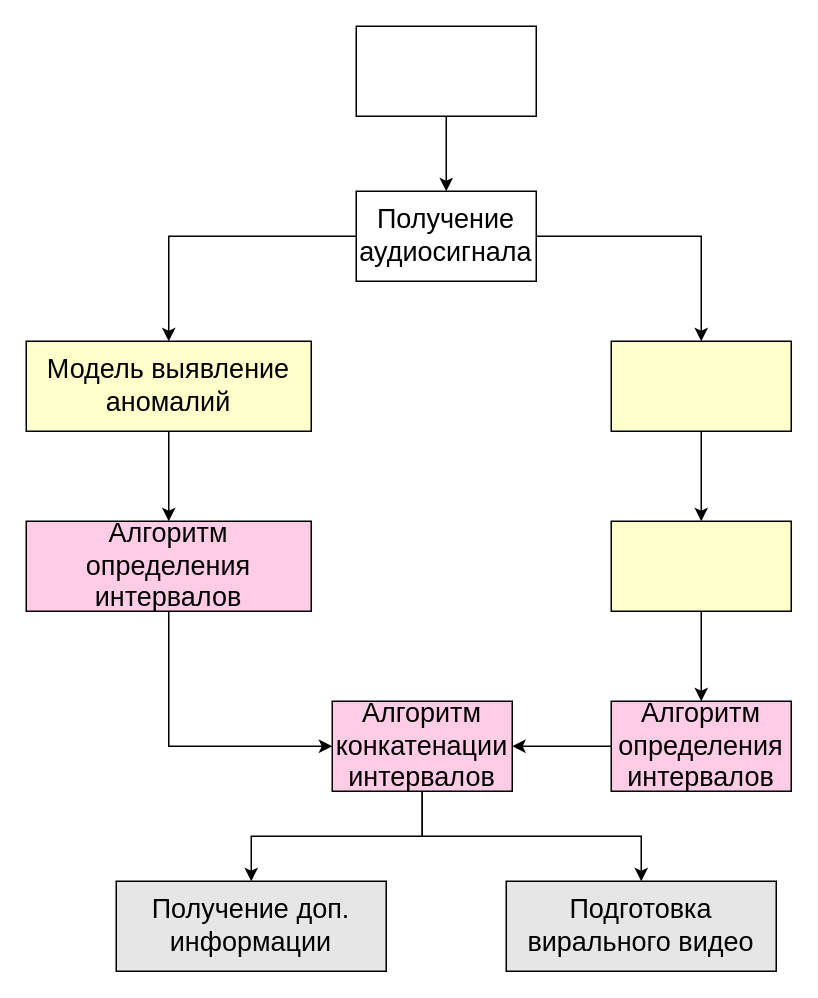
Some shapes in this 818 by 998 pixel diagram are drawn without their labels. The box of each missing label's shape, as (x1, y1, x2, y2) in pixels:
LLM: (610, 520, 791, 611)
STT: (610, 340, 791, 431)
Входное видео: (355, 25, 536, 116)
